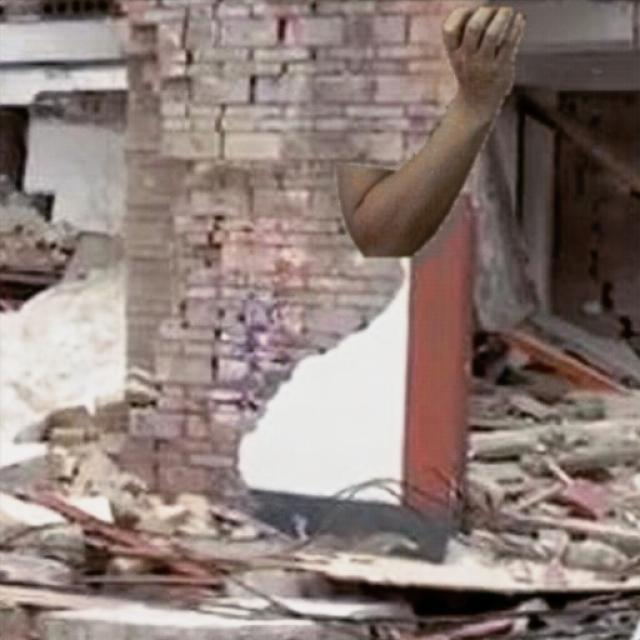Person in Rubble: (335, 8, 524, 256)
